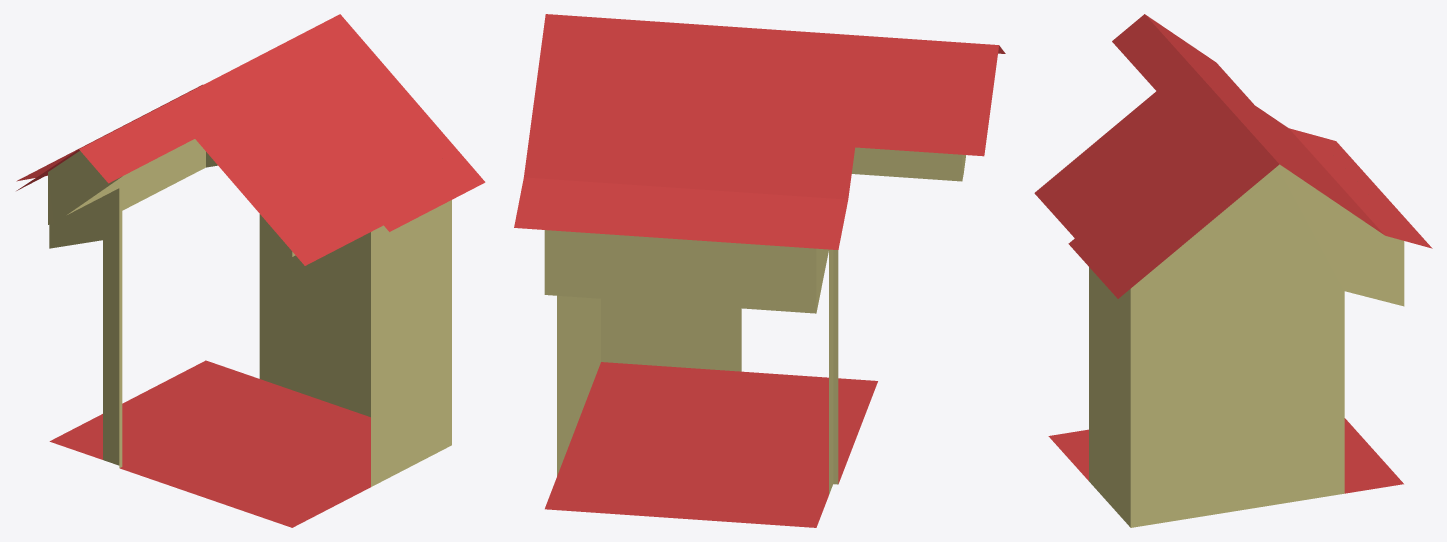
The picture shows the model from 3 angles, left to right: view 1: azimuth 30°, elevation 25°; view 2: azimuth 150°, elevation 25°; view 3: azimuth 270°, elevation 25°; orthographic projection. The views are drawn at different scales.
Size of the model in its own units: 15.13 by 13.57 by 13.14.
